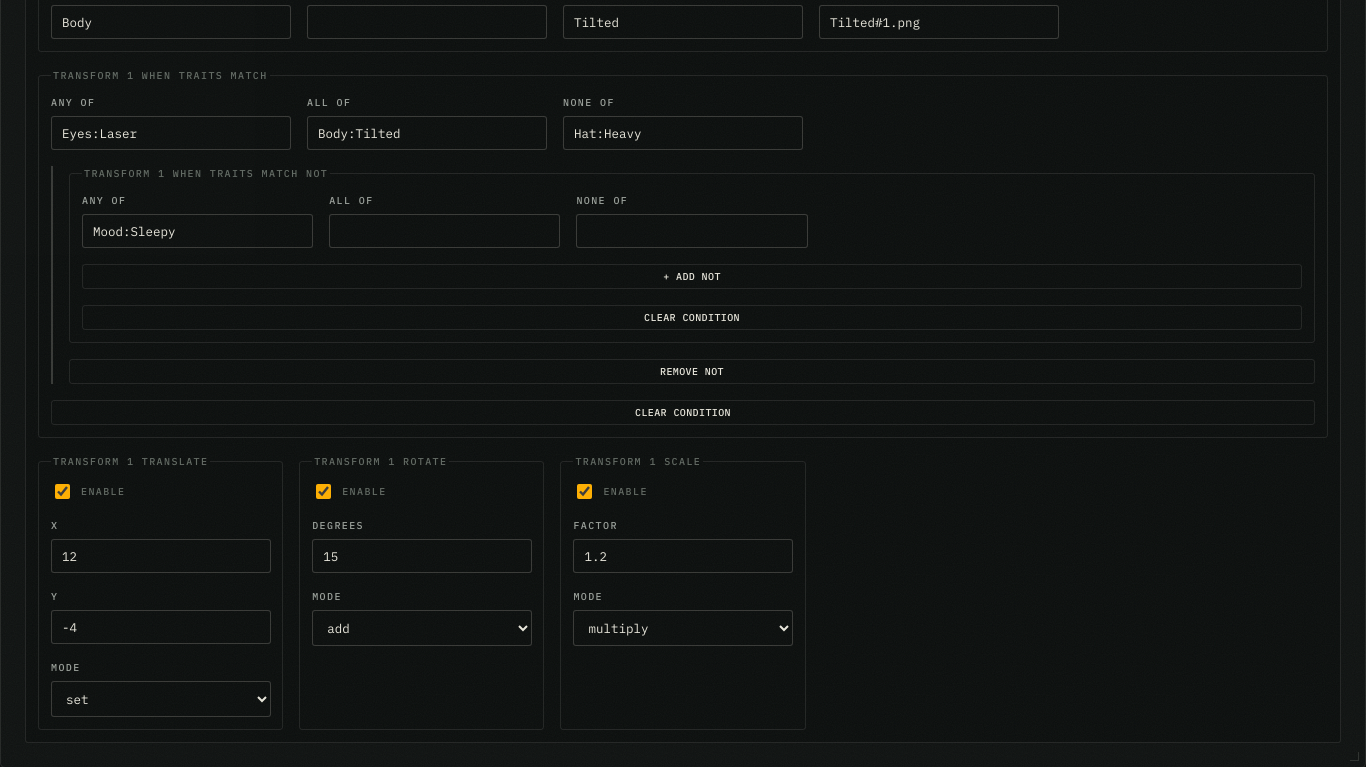
Test: TransformRulesEditor › never propagates an invalid draft and Cancel restores the project value
The width and height of the screenshot is (1366, 767).
(page scrolled)
Replace the text in the number field named "Transform 1 scale factor" with "0" at [683, 556], box [573,539,793,573]
(page scrolled)
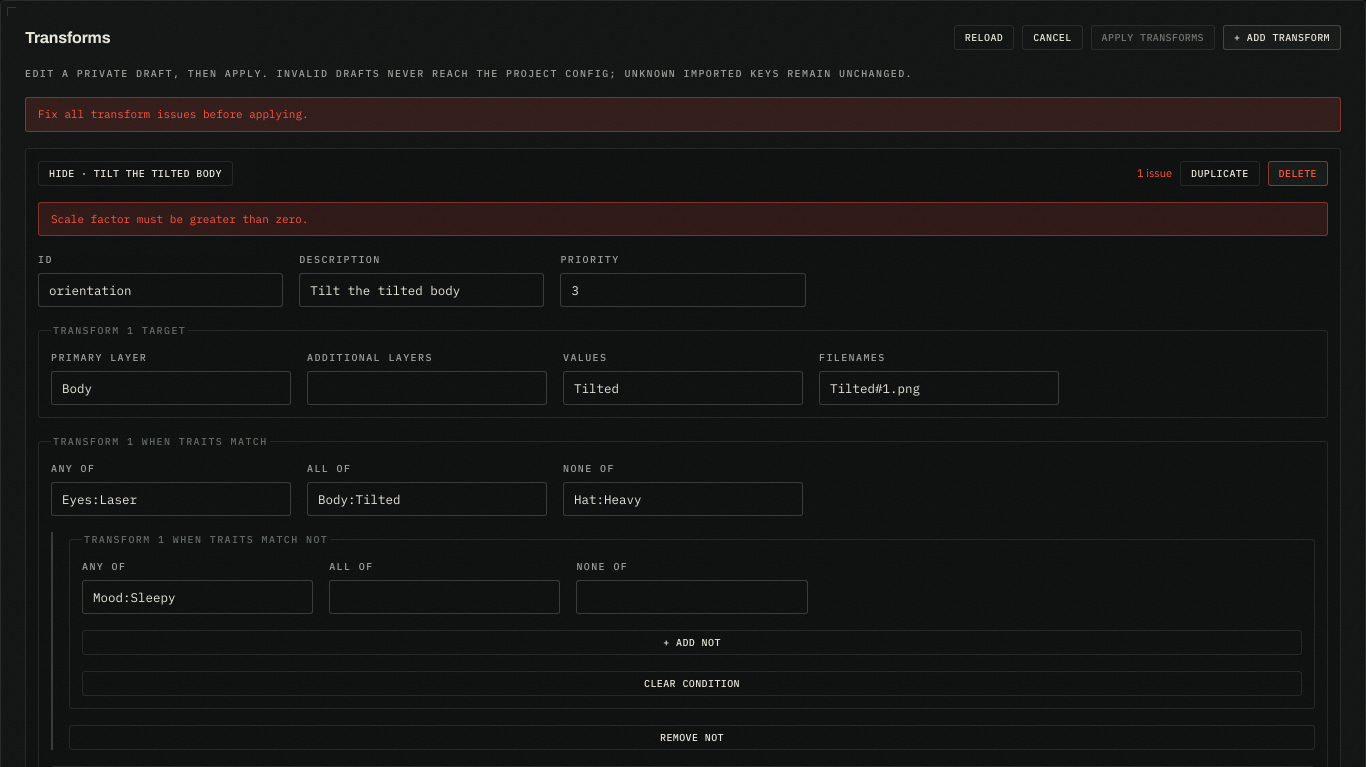
expect the button "Apply transforms" is disabled: met, box [1091,25,1215,50]
Click the button "Cancel".
click(1052, 38)  # box [1022,25,1083,50]
(page scrolled)
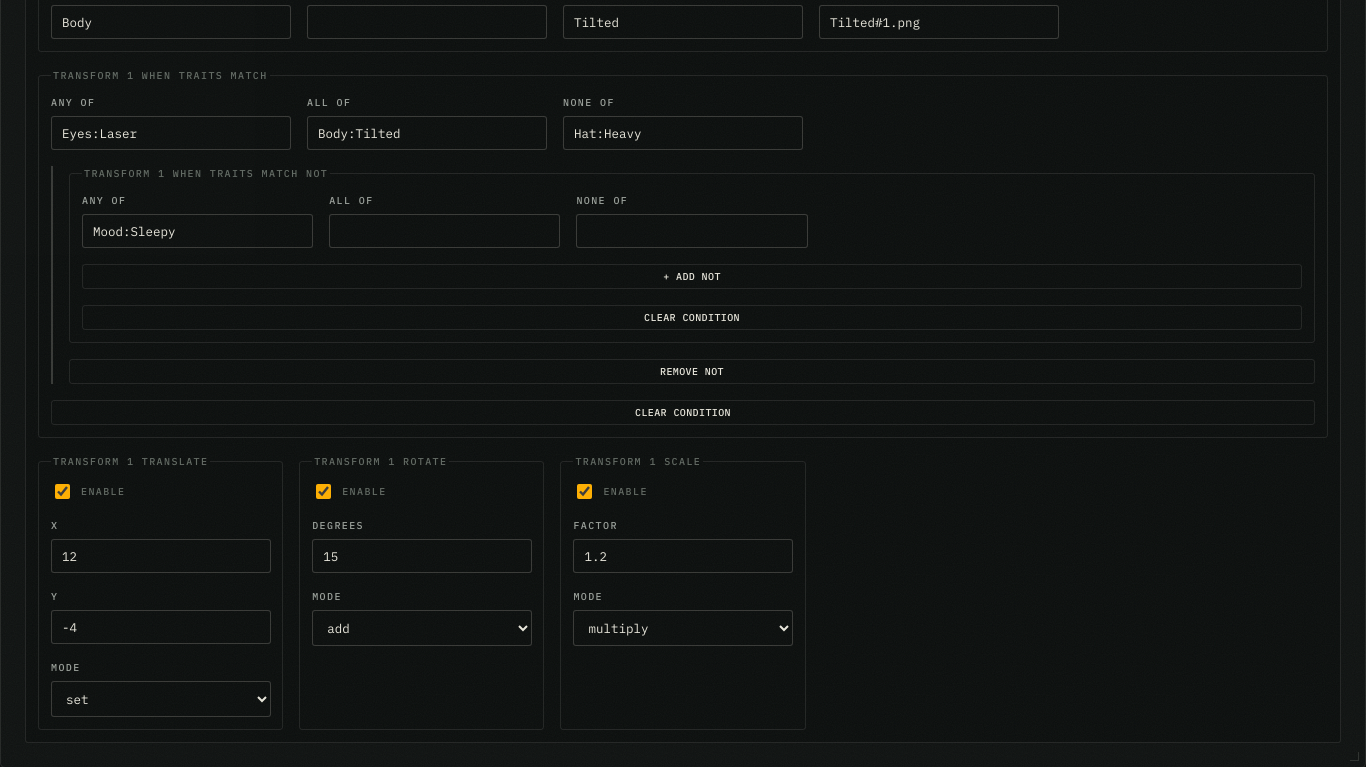
expect the number field named "Transform 1 scale factor" holds "1.2": met, box [573,539,793,573]
